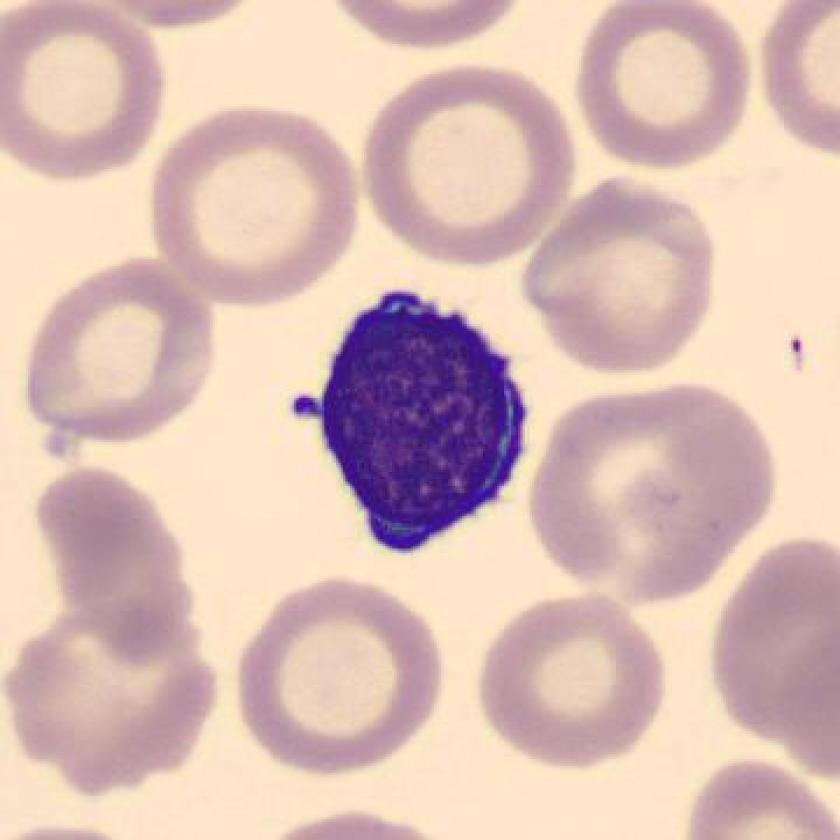lymphocyte: (279, 274, 552, 573)
